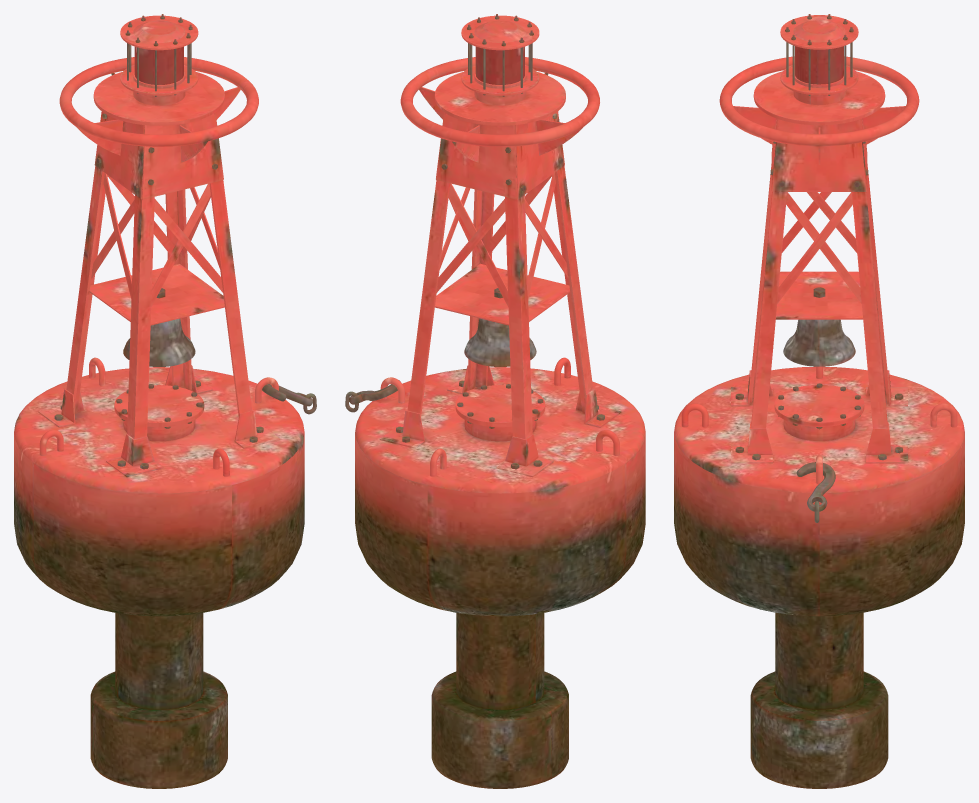
The model's file is ocean_buoy.glb.
3 renders of one model, left to right at view 1: azimuth 30°, elevation 25°; view 2: azimuth 150°, elevation 25°; view 3: azimuth 270°, elevation 25°, orthographic.
Visible parts, largest first — view 1: ocean_buoy; view 2: ocean_buoy; view 3: ocean_buoy.
Part boxes in pixels (x1,y1,x2,y2): ocean_buoy: (14, 14, 316, 788); ocean_buoy: (345, 14, 645, 788); ocean_buoy: (674, 14, 964, 788).
Size of the model in its own units: 1.07 by 2.66 by 0.9521.
1 material, 1 textured.
